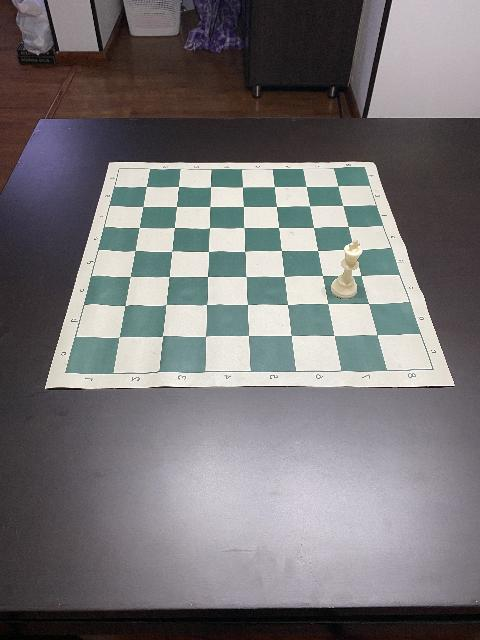board: (47, 162, 456, 388)
white-king: (330, 239, 364, 299)
